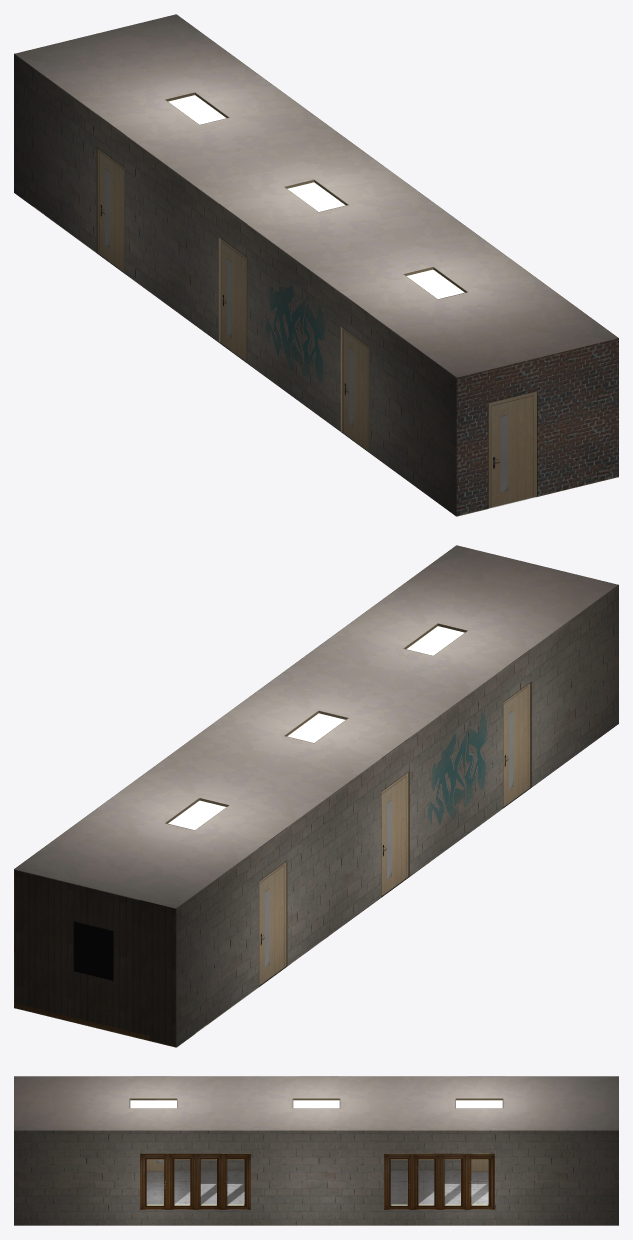
The model's file is hallway_with_baked_lighting.glb.
3 views of the same model, one above another, from view 1: azimuth 30°, elevation 25°; view 2: azimuth 150°, elevation 25°; view 3: azimuth 270°, elevation 25° (orthographic). The views are drawn at different scales.
Visible parts, largest first — view 1: Object_2; view 2: Object_2; view 3: Object_2.
Part boxes in pixels (<box>): Object_2: <box>14,14,618,516</box>; Object_2: <box>14,545,618,1047</box>; Object_2: <box>14,1076,618,1225</box>.
Bounding box in the file's own units: 3.4 × 2.74 × 15.84.
1 material, 1 textured.
